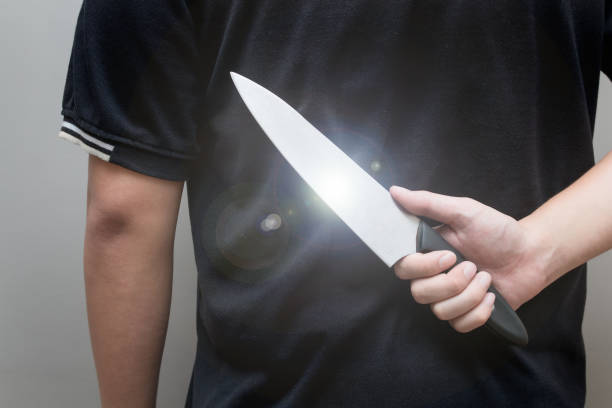knife: (226, 69, 531, 348)
